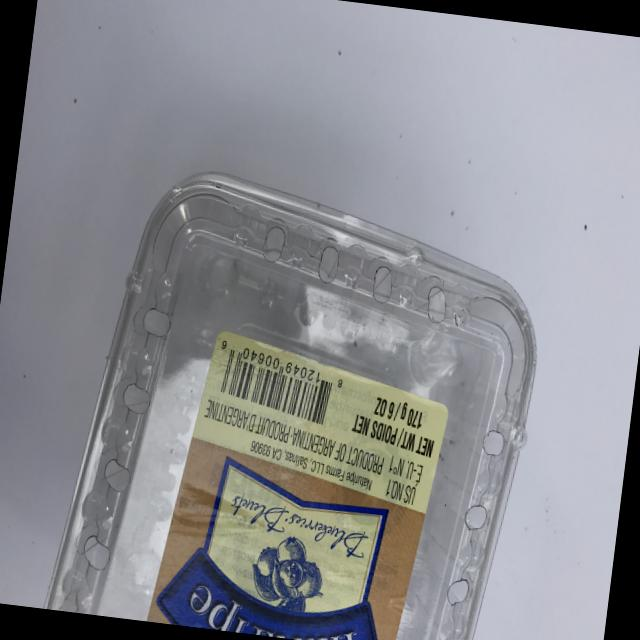Plastic: (38, 144, 565, 640)
